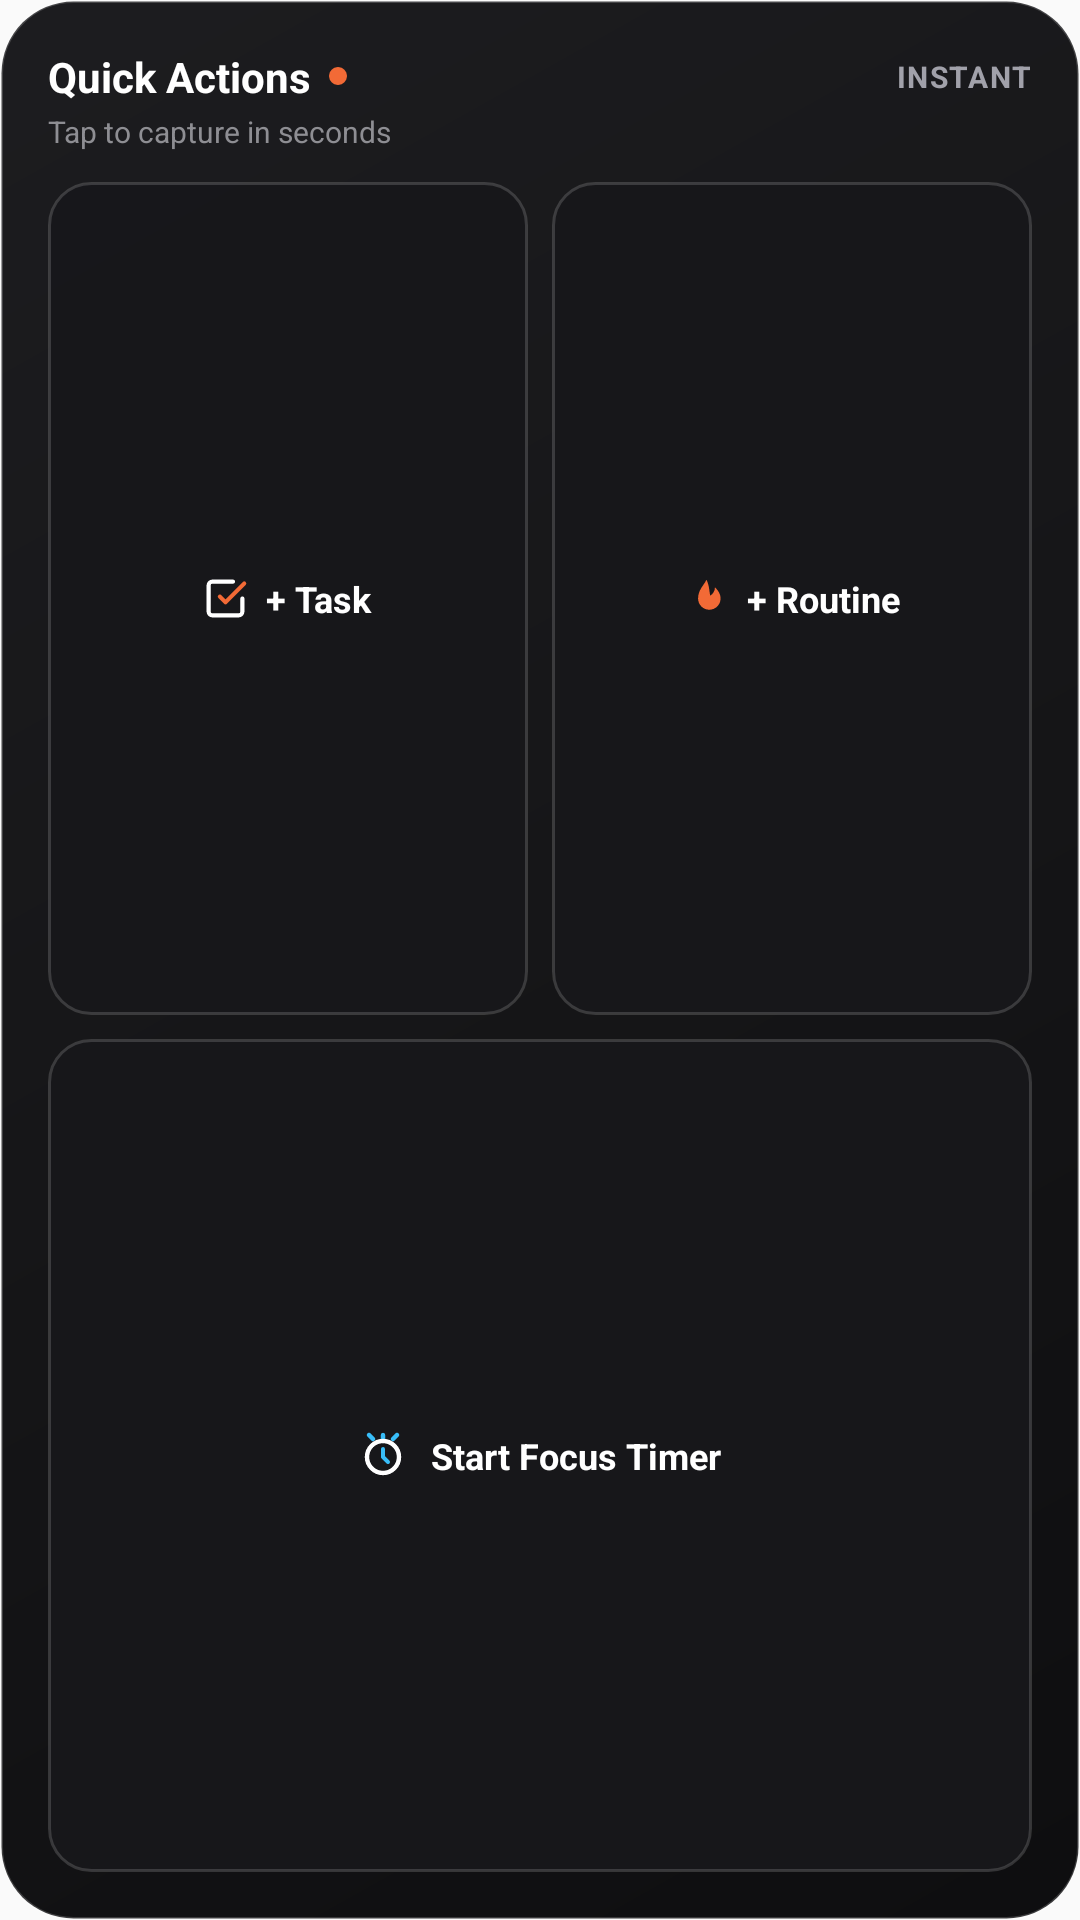

Named icons in this screenshot (1080 x 1920) and their bounding boxes, (x1, y1, x2, y2):
taskify action focus: (364, 1432, 402, 1476)
